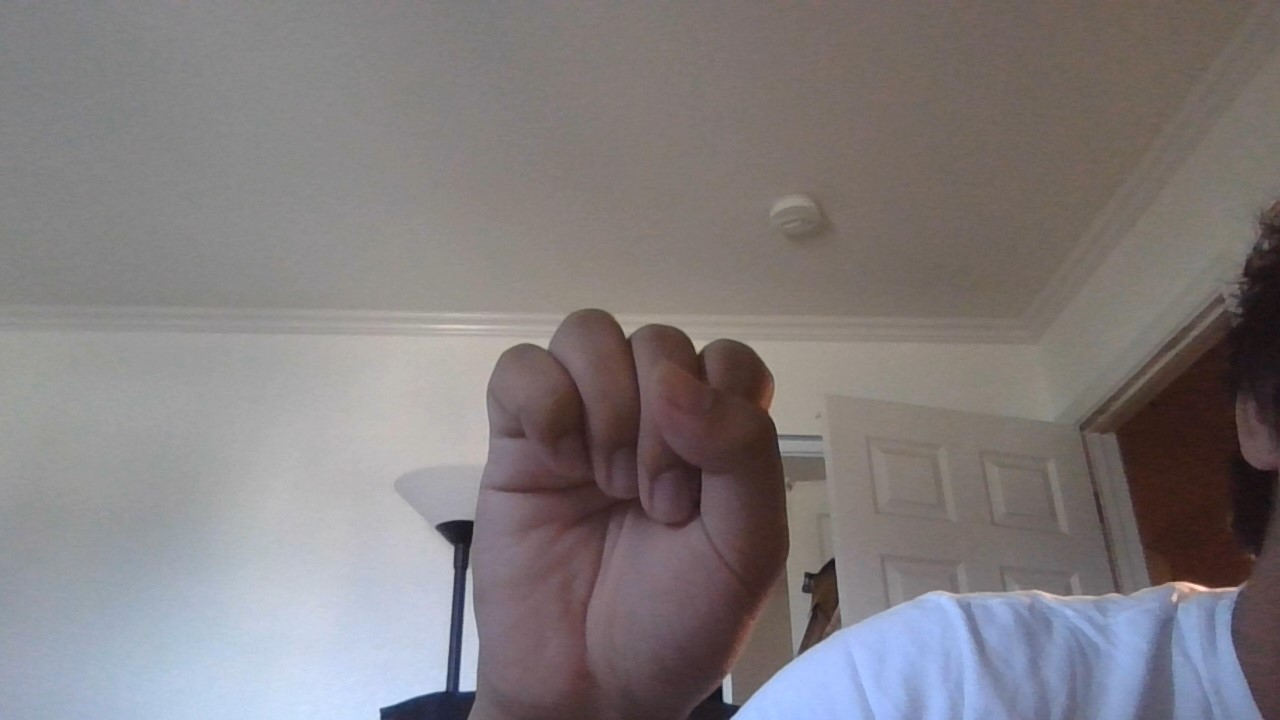s: (443, 299, 814, 720)
